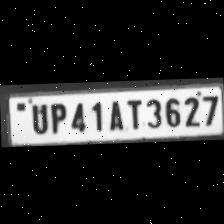1: (86, 98, 104, 132)
2: (180, 93, 200, 128)
3: (142, 94, 162, 128)
4: (65, 99, 87, 134)
6: (160, 94, 180, 128)
7: (199, 92, 217, 127)
A: (104, 97, 124, 131)
P: (46, 100, 66, 134)
T: (122, 96, 142, 131)
U: (26, 100, 48, 134)
